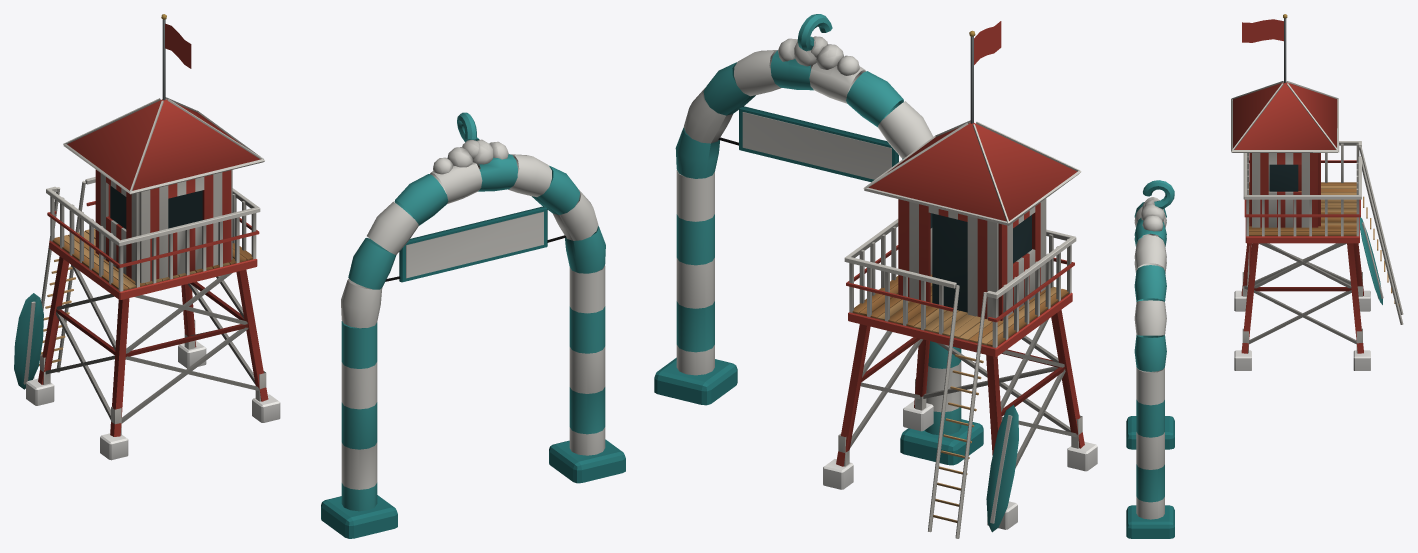
File: pav_lifeguard.glb
3 renders of one model, left to right at view 1: azimuth 30°, elevation 25°; view 2: azimuth 150°, elevation 25°; view 3: azimuth 270°, elevation 25°, orthographic. The views are drawn at different scales.
Visible parts, largest first — view 1: static_lifeguard; view 2: static_lifeguard, live_lifeguard_flag; view 3: static_lifeguard, live_lifeguard_flag.
Part boxes in pixels (x1,y1,x2,y2): static_lifeguard: (14,14,625,538); static_lifeguard: (654,14,1097,538); live_lifeguard_flag: (974,21,1001,64); static_lifeguard: (1126,14,1403,538); live_lifeguard_flag: (1242,19,1283,42).
Size of the model in its own units: 9.68 by 9.55 by 6.28.
